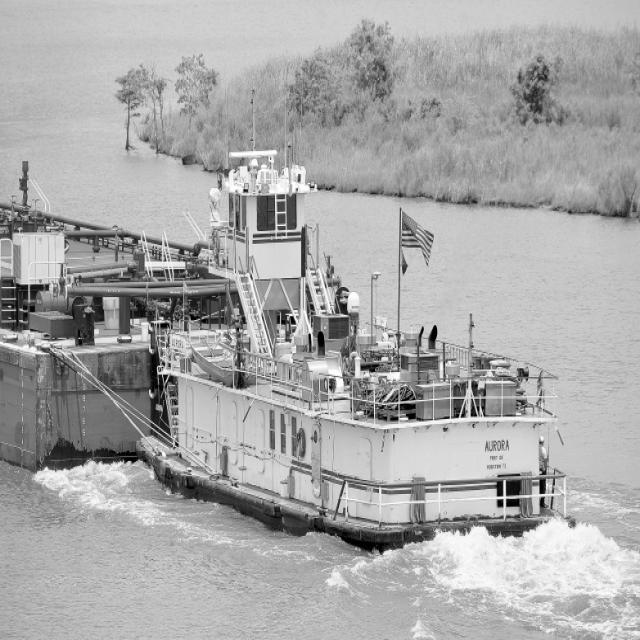tugboat: (136, 143, 581, 569)
